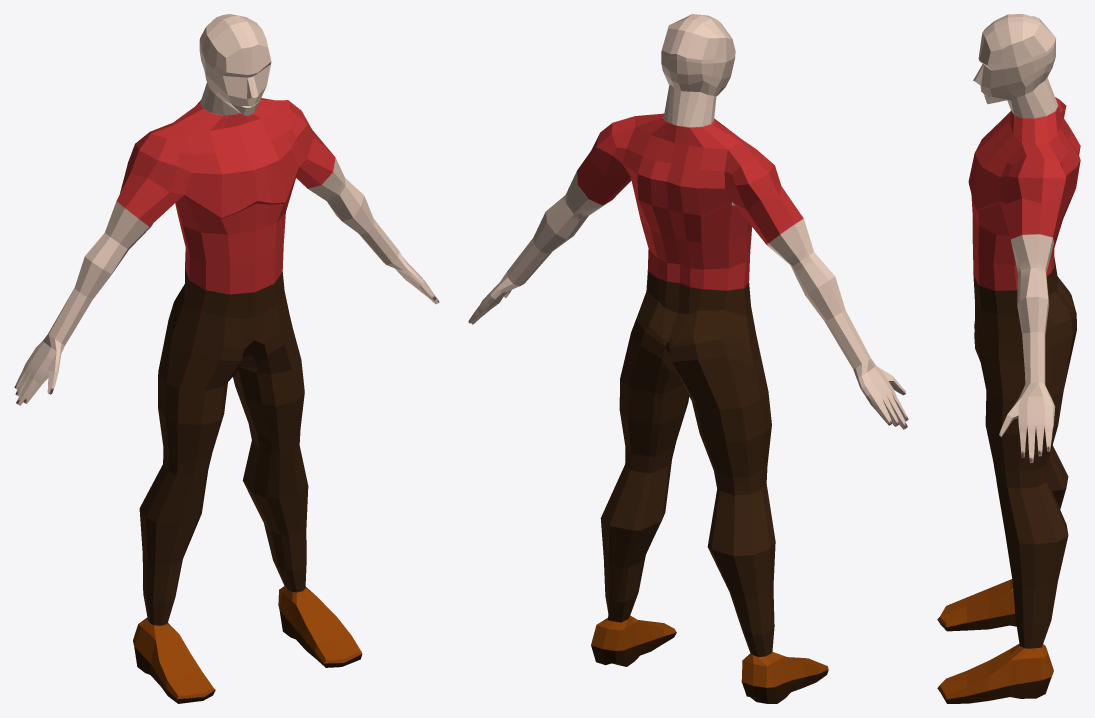
Rendered from low_poly_character1.fbx.
3 renders of one model, left to right at view 1: azimuth 30°, elevation 25°; view 2: azimuth 150°, elevation 25°; view 3: azimuth 270°, elevation 25°, orthographic. The views are drawn at different scales.
Visible parts, largest first — view 1: polySurface6; view 2: polySurface6; view 3: polySurface6.
Boxes of the visible parts, x1=… form: polySurface6: x1=14, y1=14, x2=439, y2=703; polySurface6: x1=468, y1=14, x2=908, y2=703; polySurface6: x1=937, y1=14, x2=1080, y2=703.
Size of the model in its own units: 666 by 963 by 195.
Materials: 1 (1 with a texture image).
